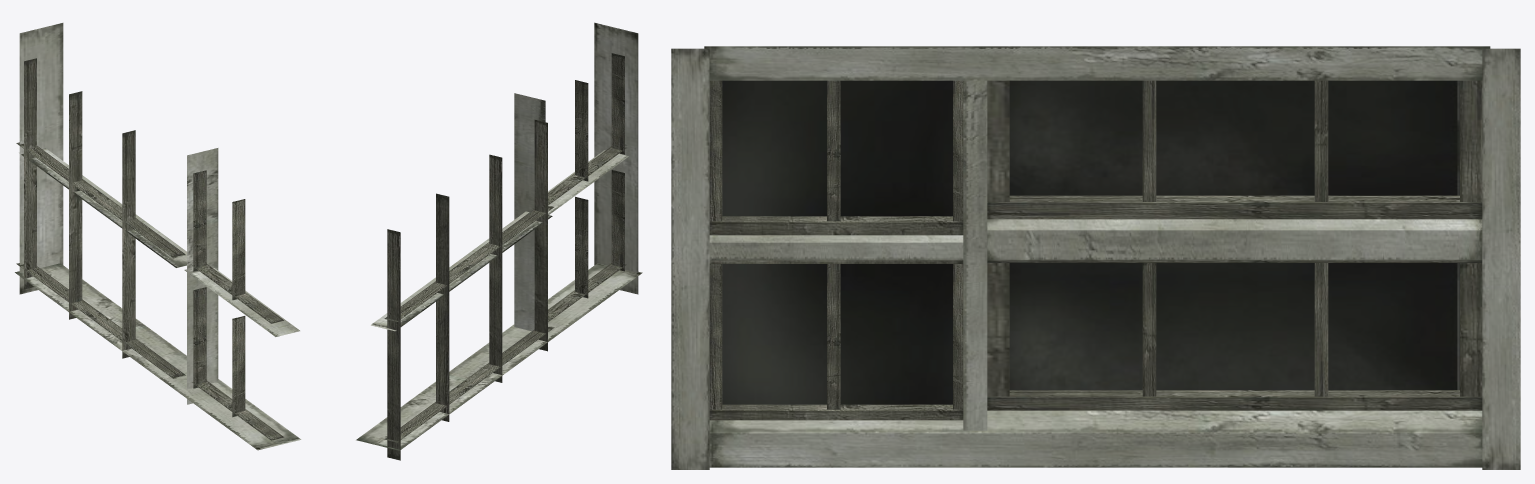
File: window_white_b.glb
3 renders of one model, left to right at view 1: azimuth 30°, elevation 25°; view 2: azimuth 150°, elevation 25°; view 3: azimuth 270°, elevation 25°, orthographic. The views are drawn at different scales.
Size of the model in its own units: 8.63 by 46 by 84.
Materials: 1 (1 with a texture image).
